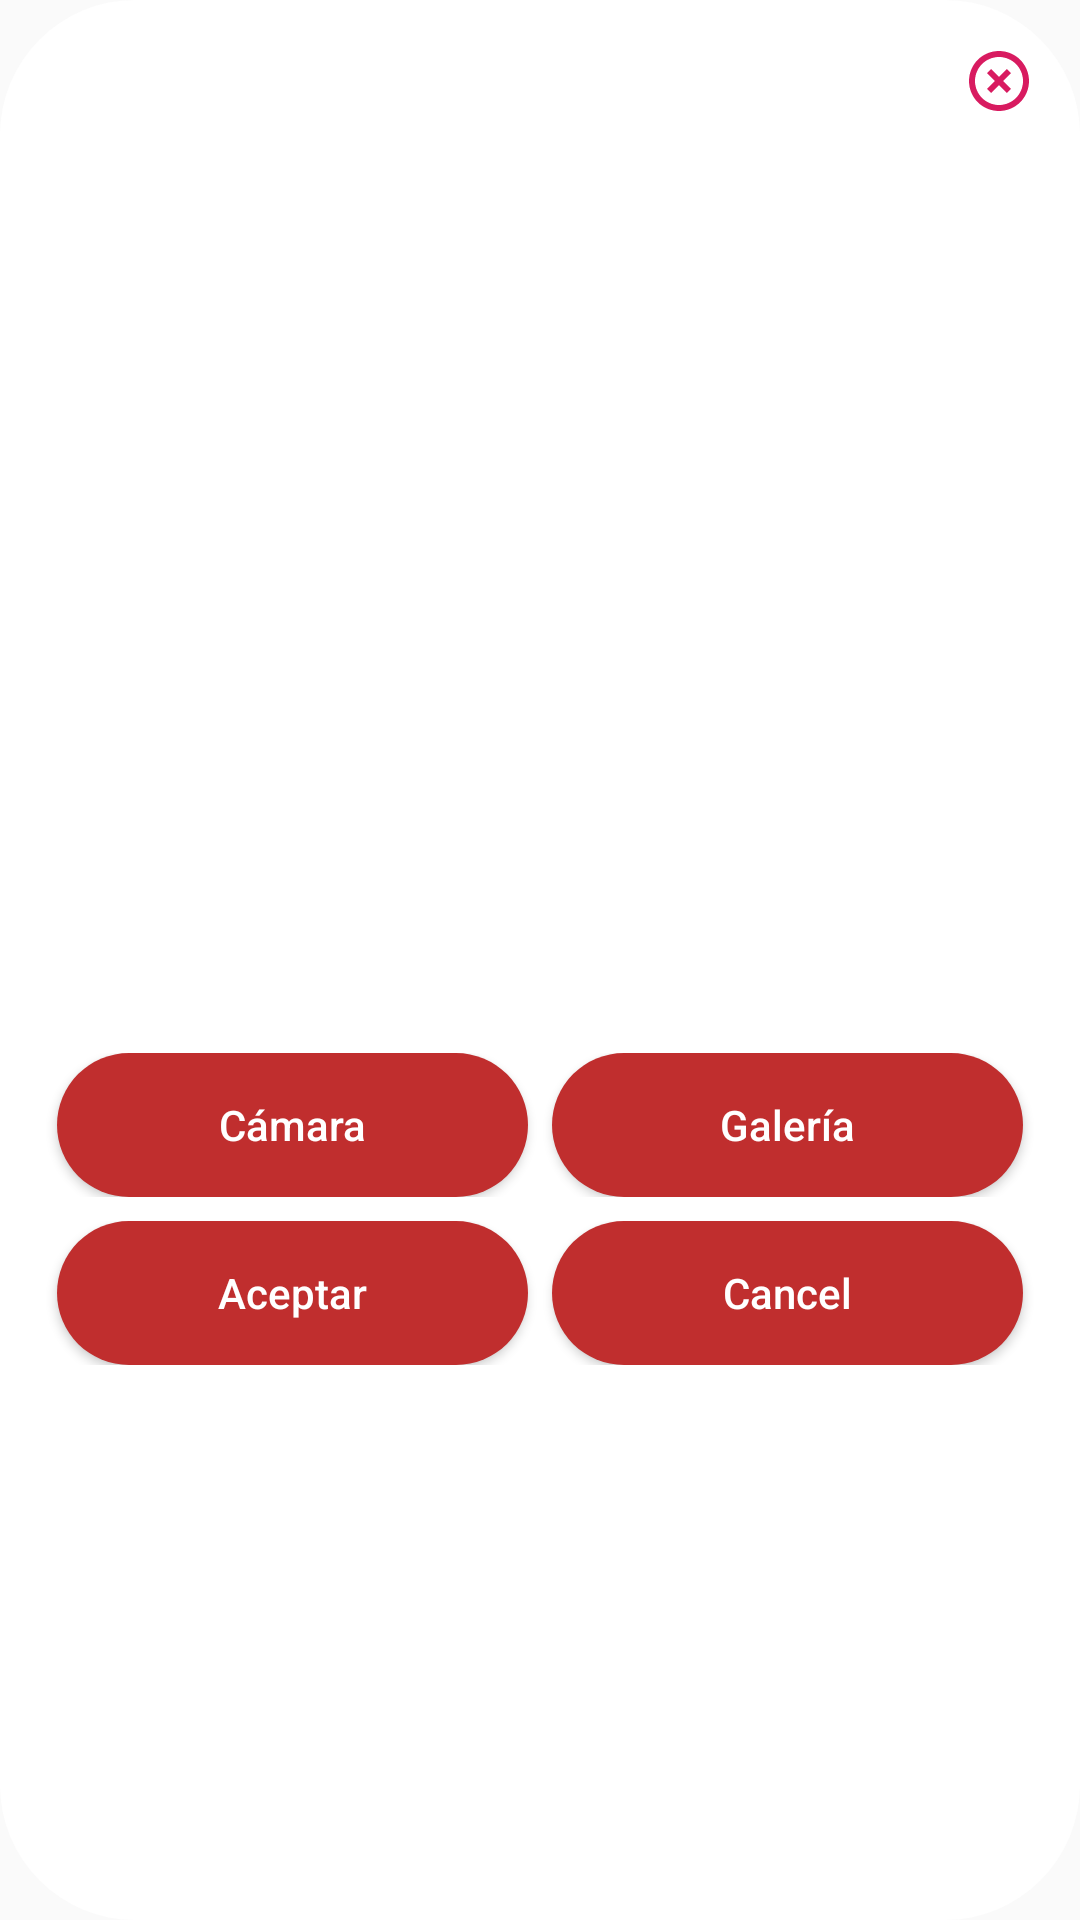

Screen size 1080x1920. Icon name, then its center in pixels as [x,y]:
highlight off: [999,81]
